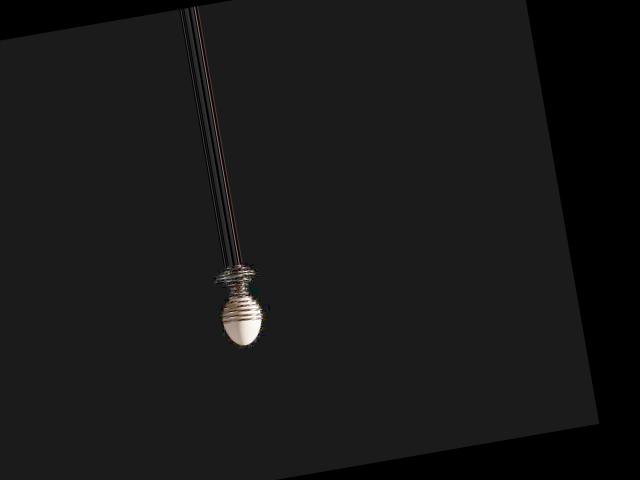egg: (219, 293, 266, 348)
